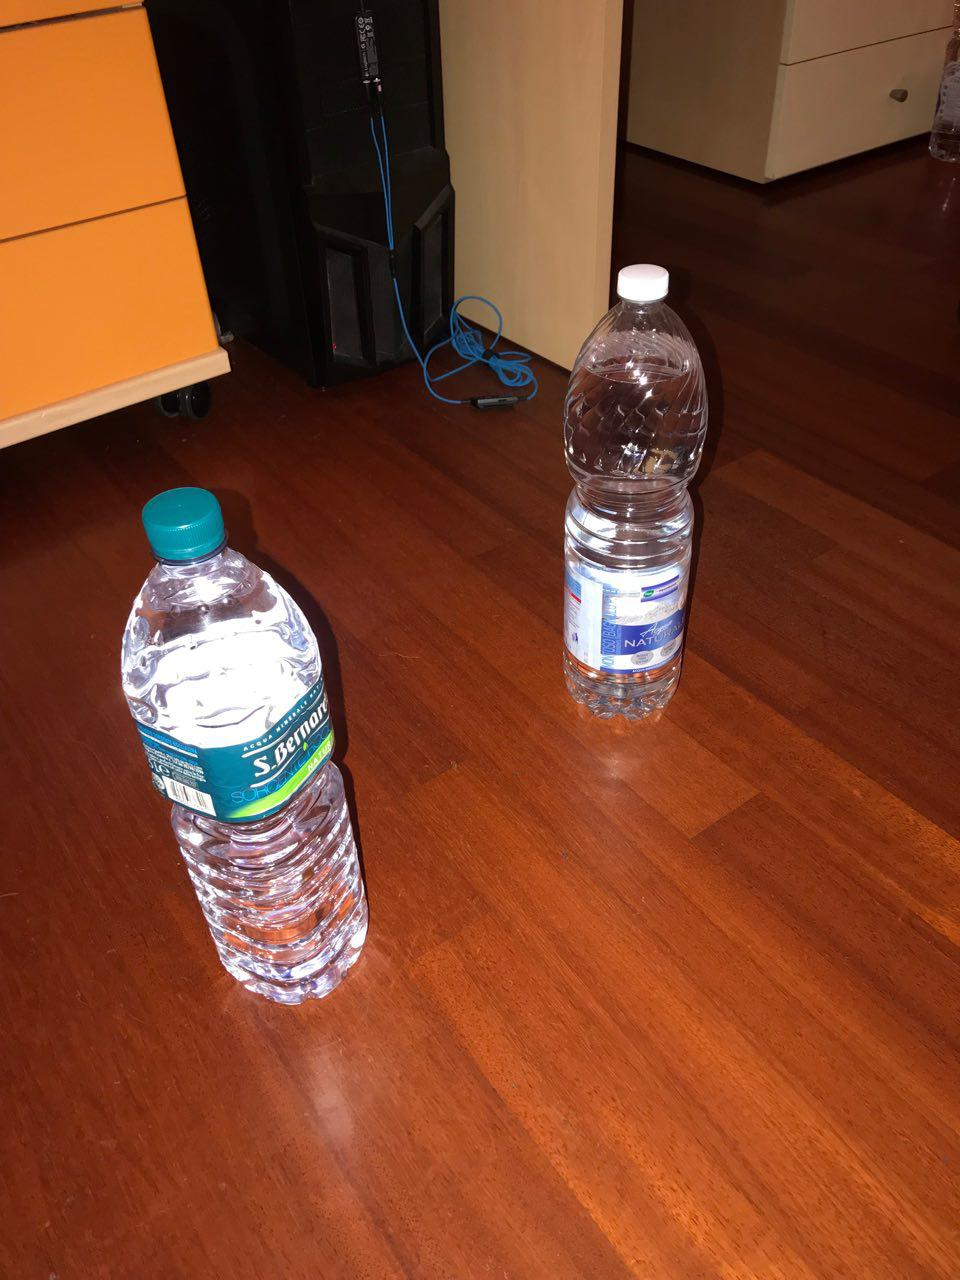san_bernardo: (119, 485, 370, 1007)
